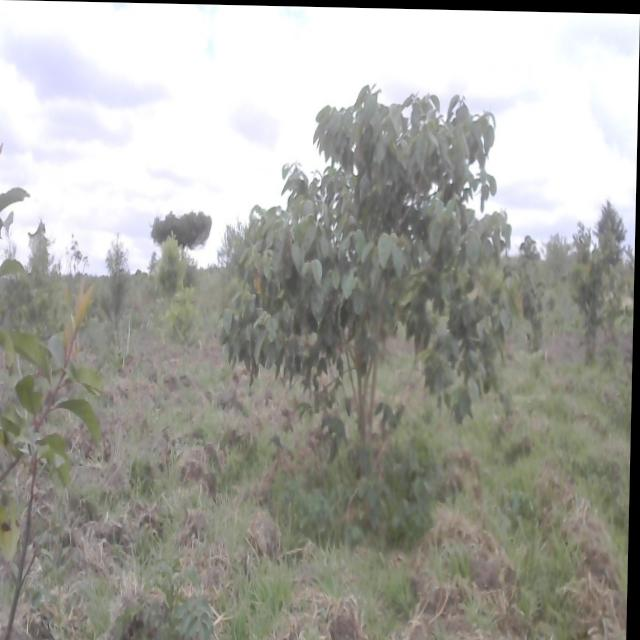Lemon Myrtle: (0, 125, 108, 566)
Podocarpus falcatus: (165, 283, 210, 350)
cedrus: (593, 184, 628, 273)
other: (214, 63, 563, 520), (563, 212, 619, 343), (148, 201, 214, 256), (101, 218, 133, 330), (153, 225, 191, 295)
